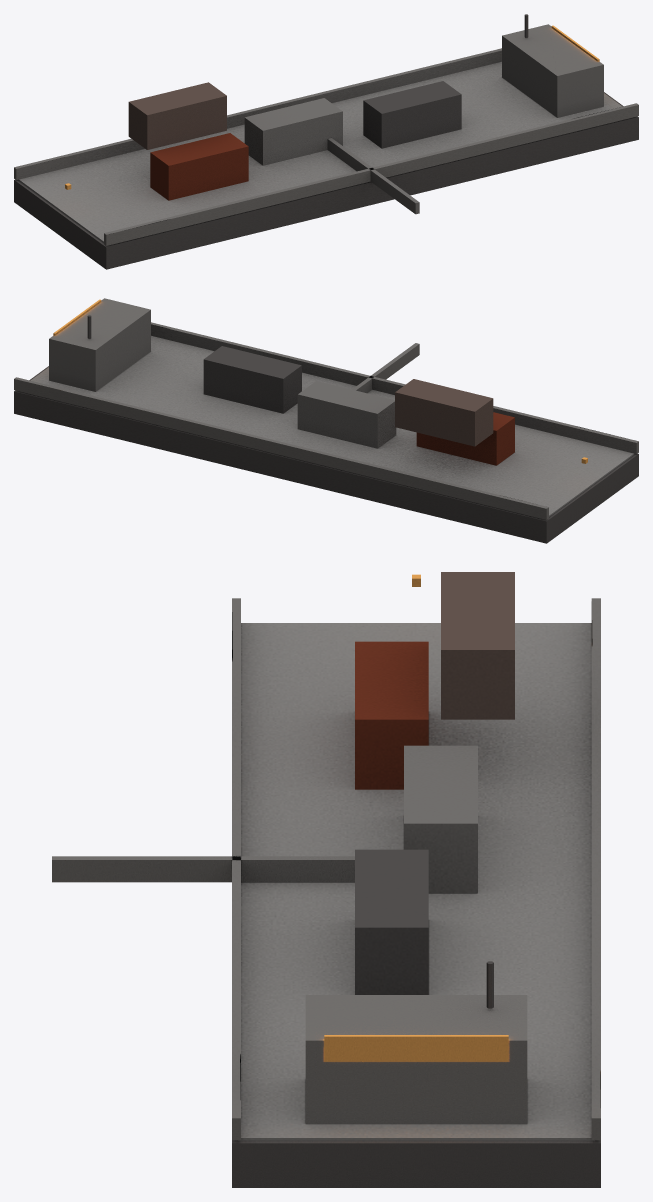
Rendered from B_barge.glb.
3 views of the same model, one above another, from view 1: azimuth 30°, elevation 25°; view 2: azimuth 150°, elevation 25°; view 3: azimuth 270°, elevation 25° (orthographic). The views are drawn at different scales.
Parts seen in each view (by area): view 1: Cube; view 2: Cube; view 3: Cube.
Part boxes in pixels (x1,y1,x2,y2): Cube: (14, 14, 638, 269); Cube: (14, 298, 638, 543); Cube: (52, 572, 600, 1187).
Bounding box in the file's own units: 40 × 6.7 × 17.85.
1 material, 1 textured.
